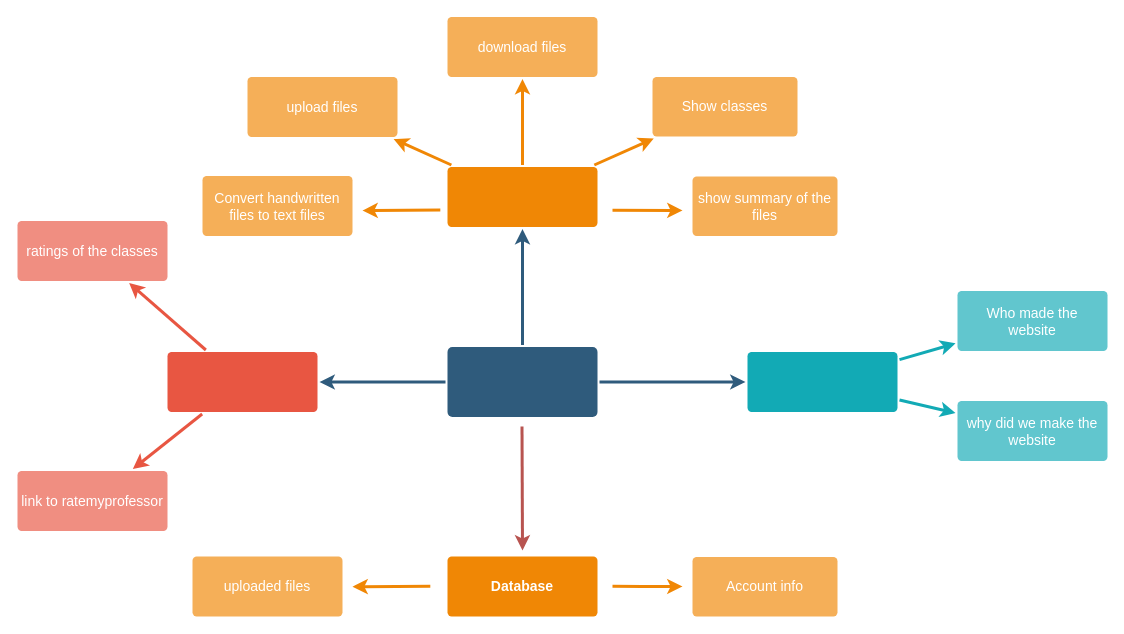
The diagram is 1124 pixels wide and 634 high, and some of its shapes have lost their labels. Here are the shapes that lost their labels. From the top down, the box of each, then its label:
(447, 166, 597, 226): Classes
(167, 352, 317, 412): Ratings
(447, 346, 597, 416): ClassNeeds
(747, 352, 897, 412): About
